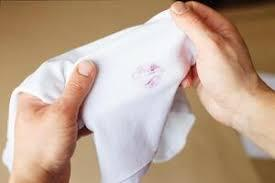kimchi: (129, 60, 162, 89)
